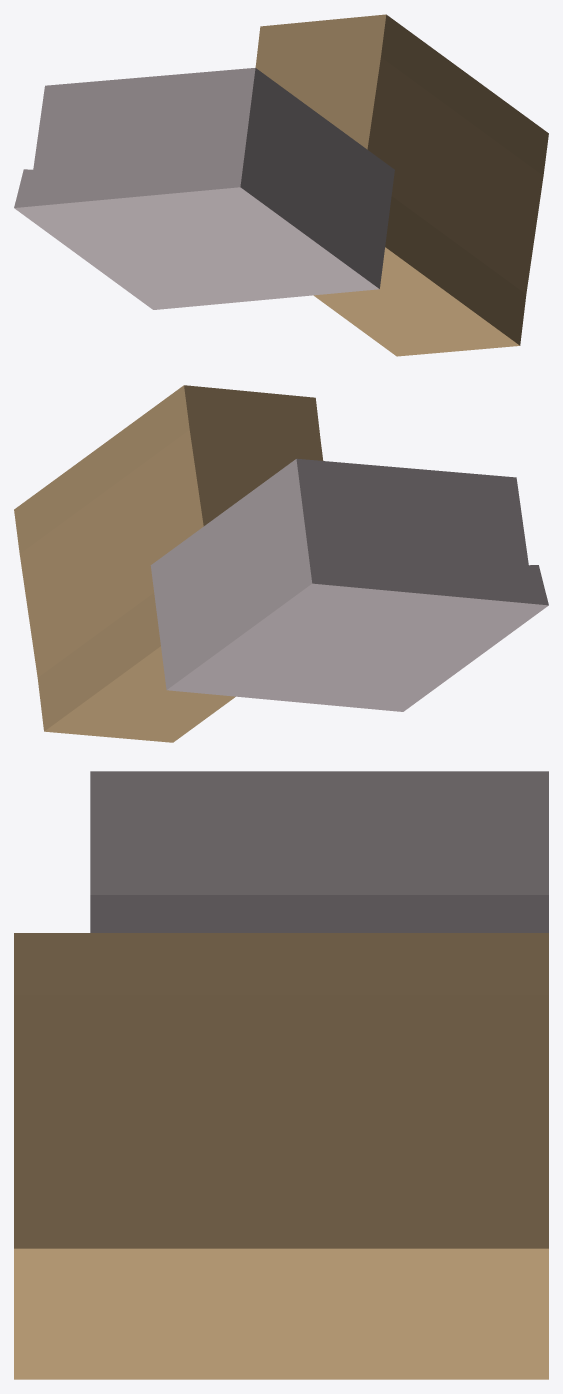
3 renders of one model, top to bottom at view 1: azimuth 30°, elevation 25°; view 2: azimuth 150°, elevation 25°; view 3: azimuth 270°, elevation 25°, orthographic. The views are drawn at different scales.
Visible parts, largest first — view 1: 0_0_1_3_2_2_1_2_1_1; view 2: 0_0_1_3_2_2_1_2_1_1; view 3: 0_0_1_3_2_2_1_2_1_1.
Part boxes in pixels (<box>): 0_0_1_3_2_2_1_2_1_1: <box>14,14,548,356</box>; 0_0_1_3_2_2_1_2_1_1: <box>14,385,548,742</box>; 0_0_1_3_2_2_1_2_1_1: <box>14,771,548,1379</box>.
Size of the model in its own units: 27.76 by 15.97 by 21.
